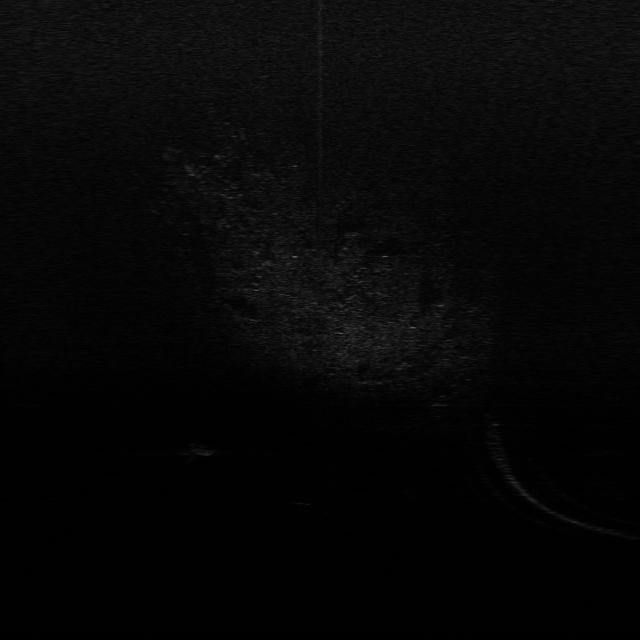square cage: (180, 439, 220, 462)
